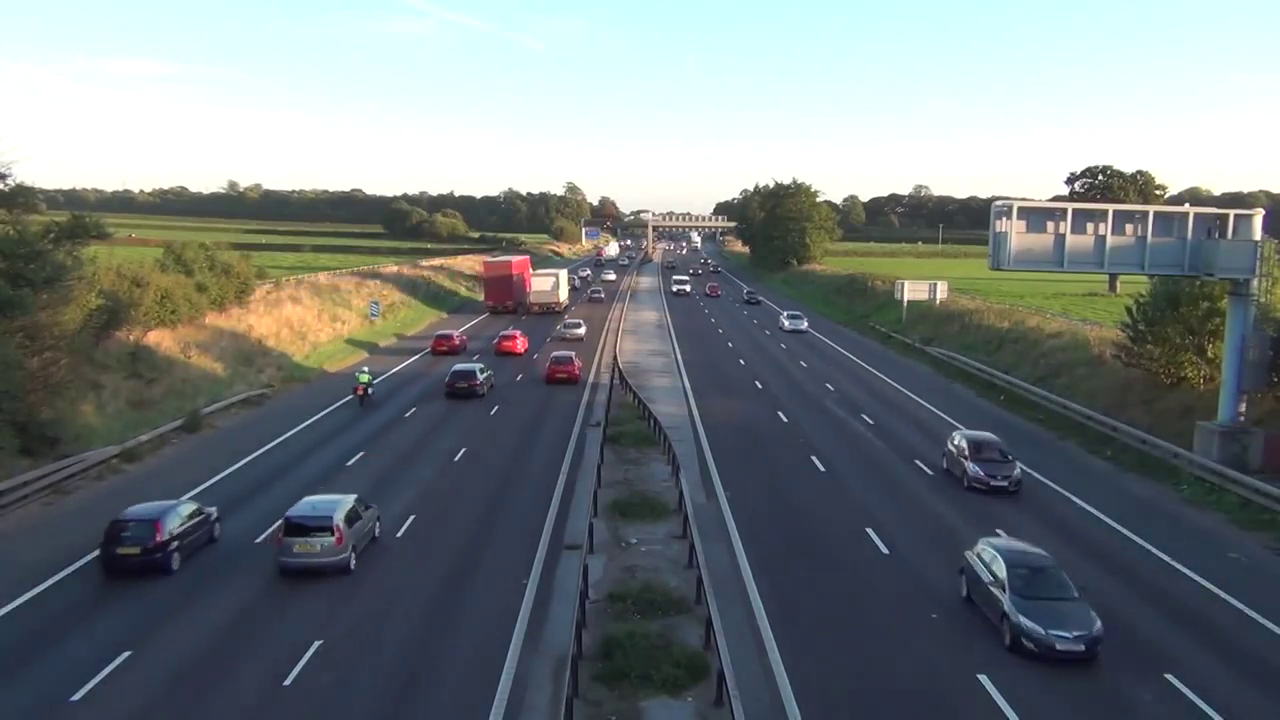Car: (960, 522, 1108, 677), (98, 495, 231, 586), (271, 490, 388, 581), (939, 420, 1038, 503), (437, 359, 494, 399), (540, 348, 587, 389), (424, 323, 473, 359), (555, 314, 589, 344), (773, 308, 812, 334), (494, 321, 524, 351), (742, 280, 773, 304), (585, 280, 612, 306), (704, 281, 723, 300)
License_Plate: (1055, 634, 1093, 658), (114, 543, 150, 560), (985, 475, 1011, 492), (290, 539, 314, 556)
MotorCycle: (350, 376, 382, 416)
Truck: (477, 257, 545, 317), (528, 266, 576, 314)
